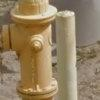Hydrant: (6, 0, 68, 100)
